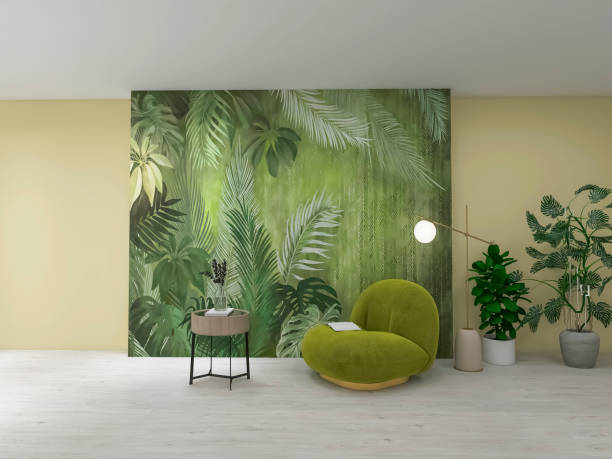chair: (297, 276, 441, 394)
floor lamp: (412, 203, 493, 374)
flower vase: (200, 258, 237, 313)
large plant: (526, 183, 612, 371), (475, 242, 527, 369)
table: (186, 311, 251, 391)
